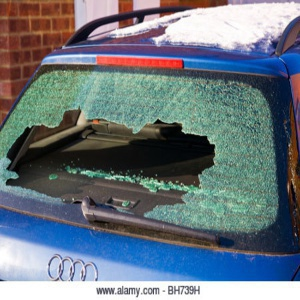bumper: (98, 180, 261, 225)
